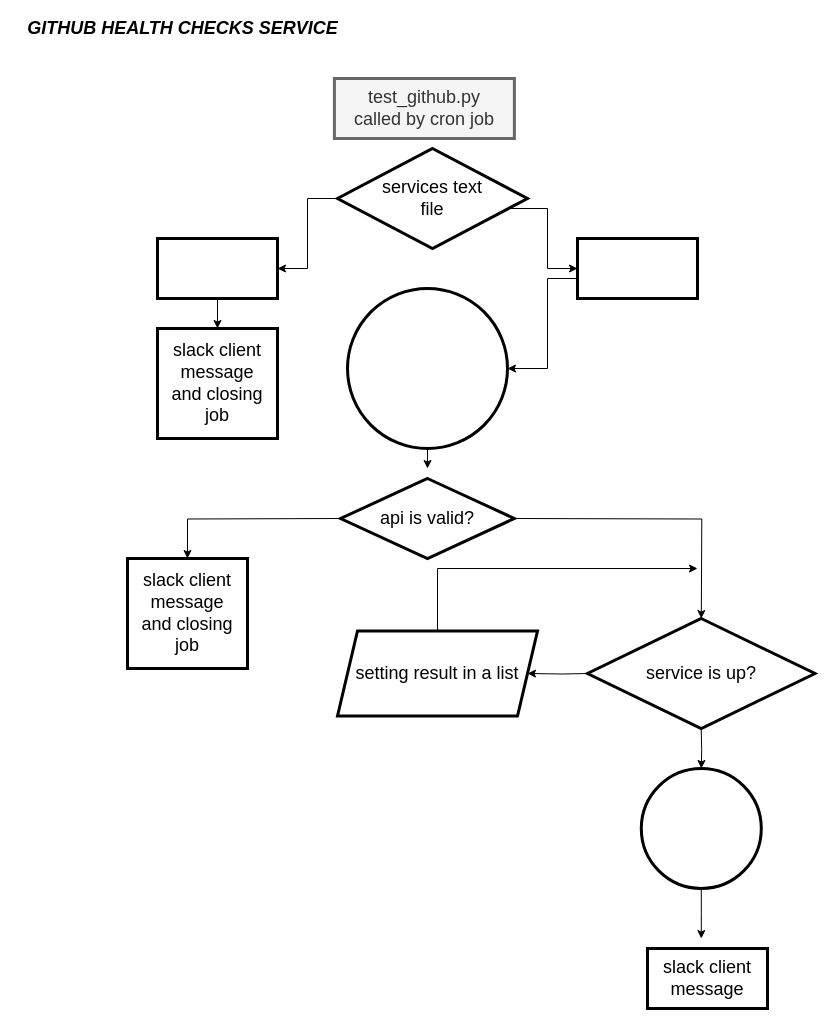
The diagram is 833 pixels wide and 1027 high, and some of its shapes have lost their labels. The centre of each missing label's shape, as x and y in pixels:
checking main site and services: (427,368)
Error, closing job: (217,268)
job done: (700,828)
reading lines: (637,268)
